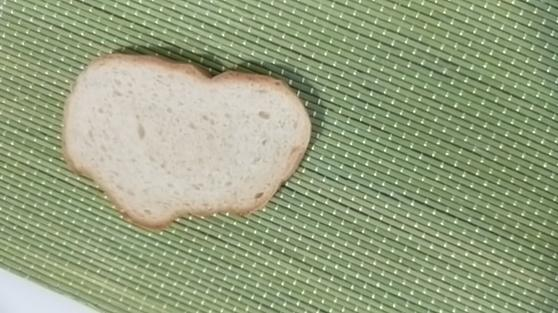white_bread: (63, 53, 311, 227)
